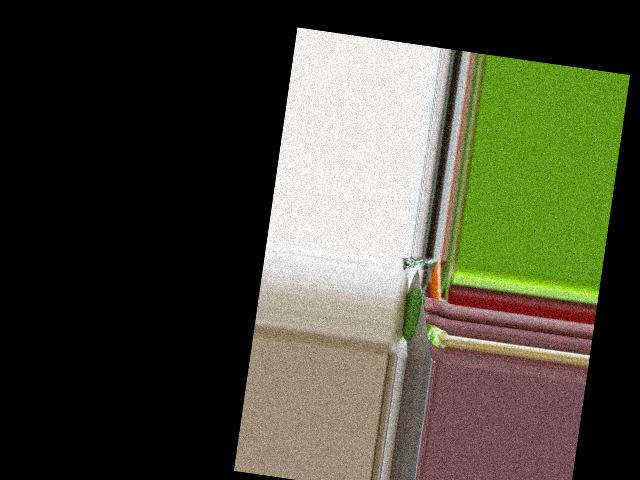cucumber: (400, 286, 423, 341)
